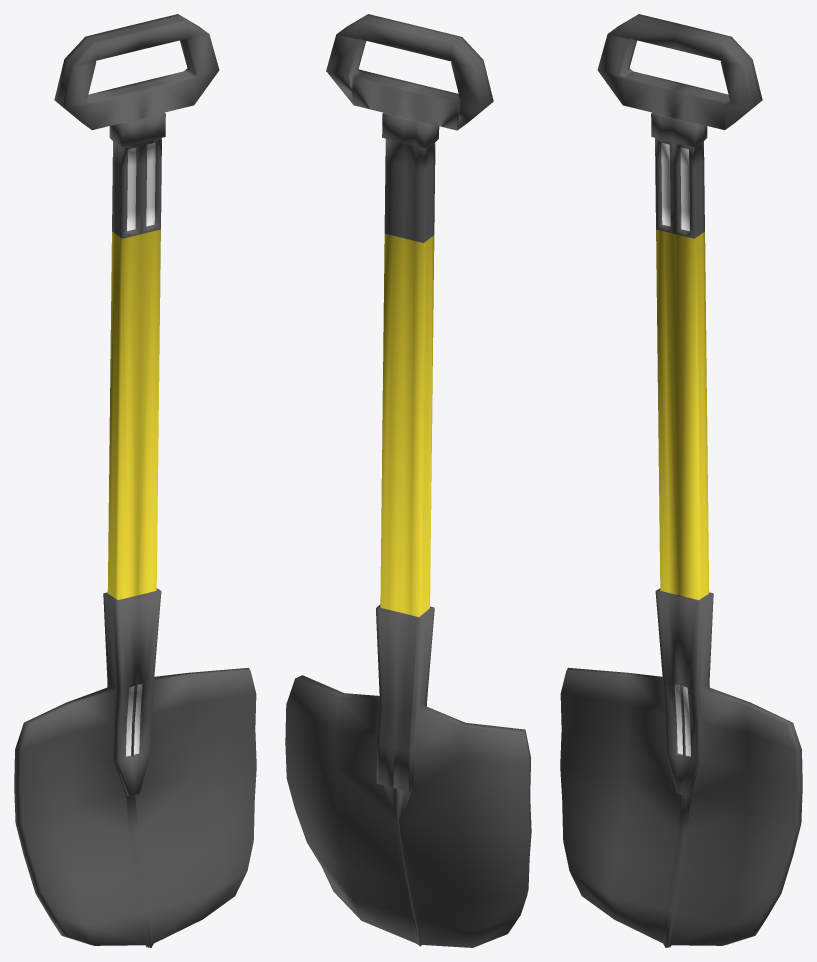
The model's file is pala.fbx.
The picture shows the model from 3 angles, left to right: view 1: azimuth 30°, elevation 25°; view 2: azimuth 150°, elevation 25°; view 3: azimuth 330°, elevation 25°; orthographic projection.
Parts seen in each view (by area): view 1: Plane; view 2: Plane; view 3: Plane.
Part boxes in pixels (x1=…): Plane: x1=14, y1=14, x2=256, y2=947; Plane: x1=285, y1=14, x2=531, y2=947; Plane: x1=560, y1=14, x2=802, y2=947.
Size of the model in its own units: 196 by 714 by 45.21.
